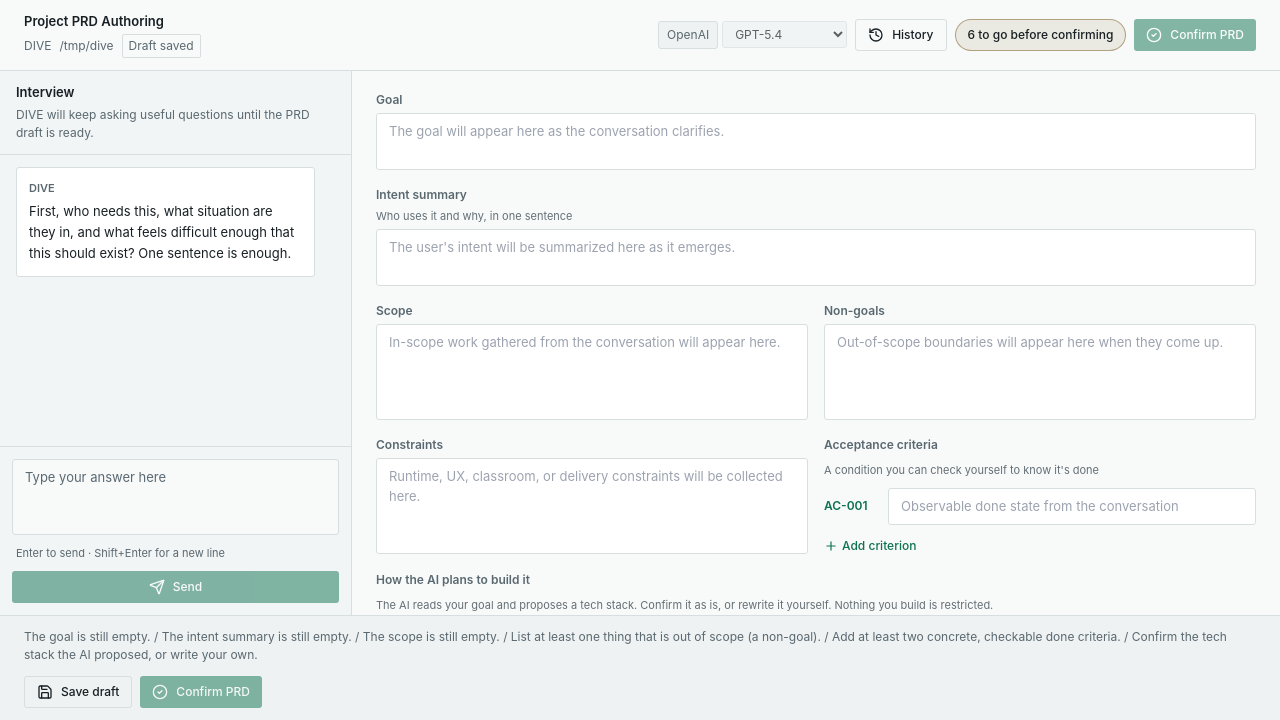
Test: PrdAuthoringBoard › renders a factual reply on a patch-only turn instead of deleting the bubble (P1-12)
Type "It should keep items after a refresh" into the text box with test id "prd-interview-input" at (176, 497), box 12,458 -> 339,535
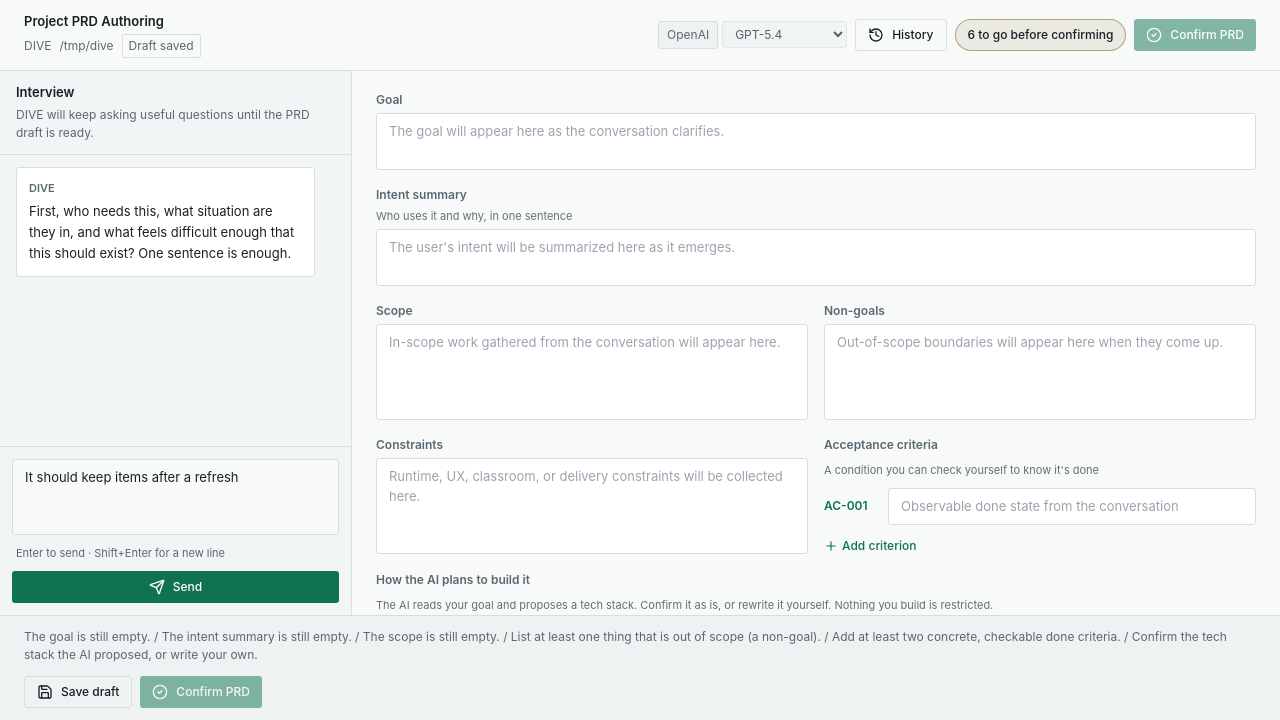
Click the button with test id "prd-interview-send" at (176, 587), box 12,571 -> 339,603
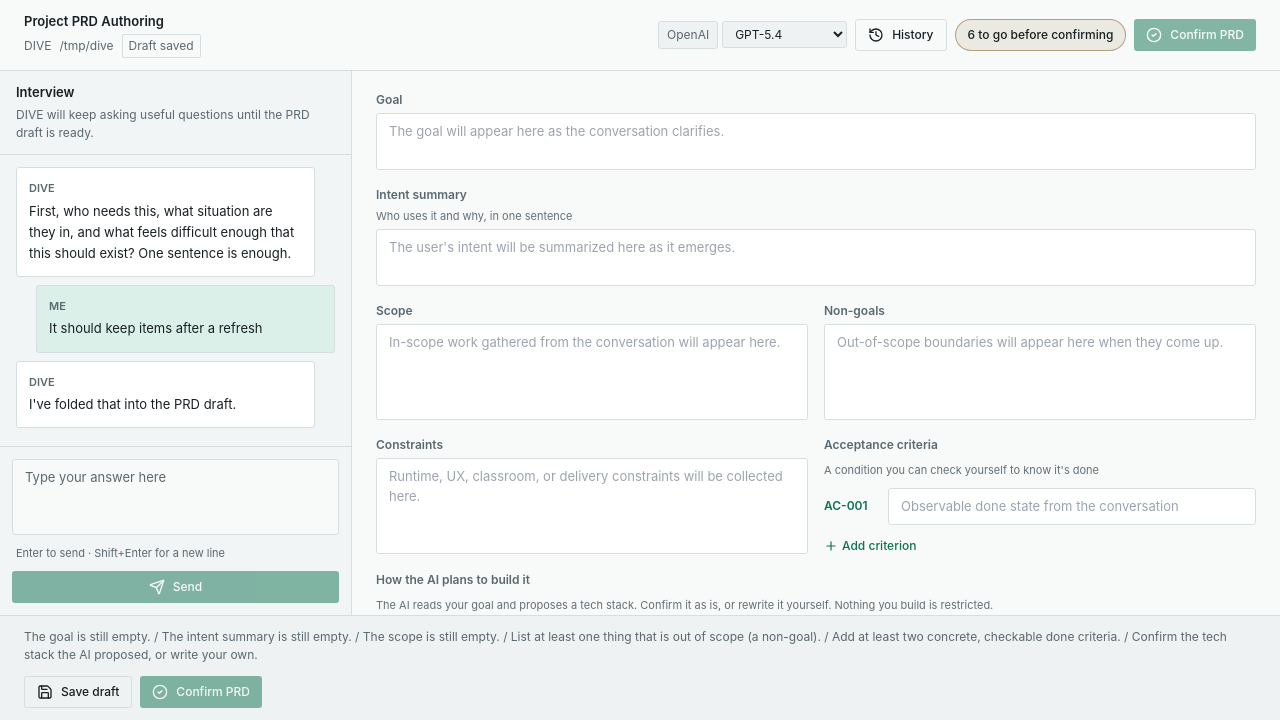
Result: the text "I've folded that into the PRD draft." is shown at 29,396 -> 236,412
